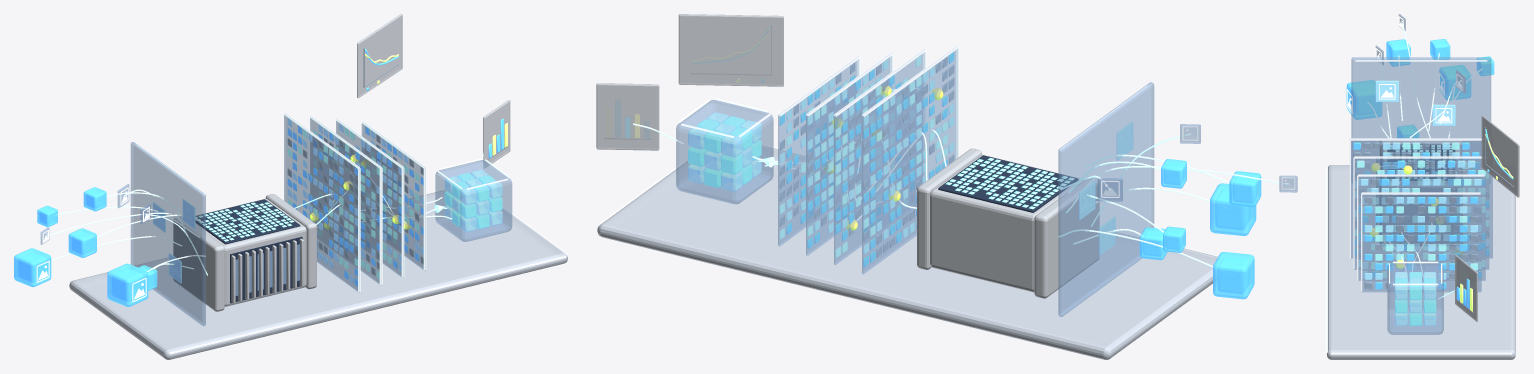
Rendered from ai-ml-training-pipeline.glb.
The picture shows the model from 3 angles, left to right: view 1: azimuth 30°, elevation 25°; view 2: azimuth 150°, elevation 25°; view 3: azimuth 270°, elevation 25°; orthographic projection. The views are drawn at different scales.
Parts seen in each view (by area): view 1: Base, ProcessorCore, InputPanel, FeatureLayer01, FeatureLayer02, TrainedModel, FeatureLayer03, FeatureLayer04, TrainedModelCore, TrainingChart, DataPaths, InputCube03 (+4 smaller); view 2: Base, ProcessorCore, InputPanel, FeatureLayer01, FeatureLayer02, TrainedModel, TrainingChart, FeatureLayer03, FeatureLayer04, TrainedModelCore, PredictionChart, DataPaths (+8 smaller); view 3: Base, InputPanel, FeatureLayer04, FeatureLayer03, FeatureLayer02, FeatureLayer01, TrainedModel, ProcessorCore, TrainedModelCore, TrainingChart, DataPaths, InputCube03 (+8 smaller).
Boxes of the visible parts, x1,y1,x2,y2 form: Base: (69,190,567,359); ProcessorCore: (173,194,317,311); InputPanel: (130,142,205,326); FeatureLayer01: (284,113,360,292); FeatureLayer02: (310,116,382,284); TrainedModel: (435,158,512,241); FeatureLayer03: (336,118,404,277); FeatureLayer04: (361,121,426,270); TrainedModelCore: (444,170,502,232); TrainingChart: (357,14,402,98); DataPaths: (44,151,483,275); InputCube03: (107,263,148,306); Base: (597,145,1218,359); ProcessorCore: (916,148,1099,298); InputPanel: (1058,82,1154,316); FeatureLayer01: (862,45,959,274); FeatureLayer02: (834,49,926,264); TrainedModel: (676,98,773,204); TrainingChart: (678,14,783,86); FeatureLayer03: (806,52,893,255); FeatureLayer04: (778,56,860,246); TrainedModelCore: (688,112,761,191); PredictionChart: (596,83,659,150); DataPaths: (633,87,1288,267); Base: (1326,165,1515,359); InputPanel: (1351,57,1491,183); FeatureLayer04: (1361,192,1481,292); FeatureLayer03: (1357,174,1485,280); FeatureLayer02: (1353,156,1489,269); FeatureLayer01: (1349,138,1492,258); TrainedModel: (1387,261,1443,334); ProcessorCore: (1376,140,1462,245); TrainedModelCore: (1395,272,1436,325); TrainingChart: (1481,115,1519,197); DataPaths: (1367,22,1482,299); InputCube03: (1346,80,1381,119).
Bounding box in the file's own units: 14.92 × 5.4 × 5.11.
